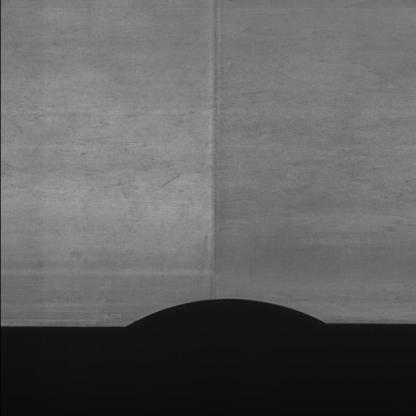welding_line: (195, 0, 232, 304)
